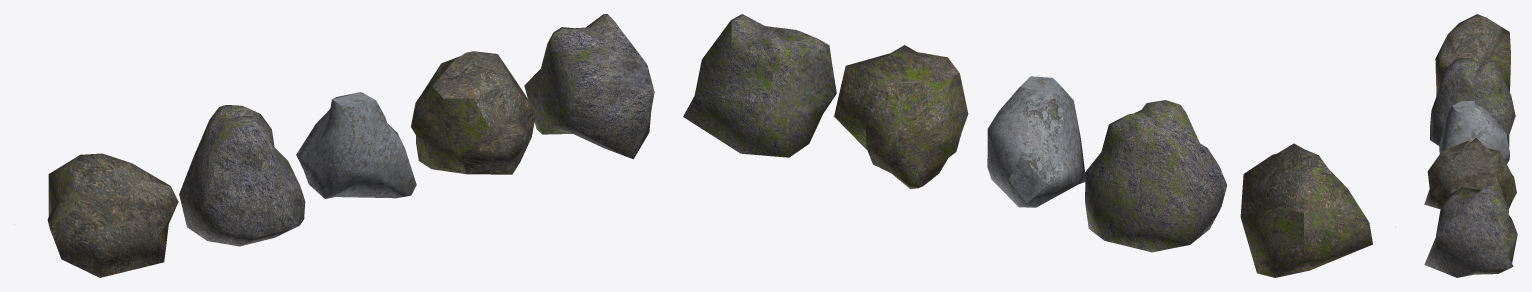
Rendered from Rocks.fbx.
3 views of the same model, side by side, from view 1: azimuth 30°, elevation 25°; view 2: azimuth 150°, elevation 25°; view 3: azimuth 270°, elevation 25° (orthographic). The views are drawn at different scales.
Parts seen in each view (by area): view 1: Rock1, Rock4, Rock5, Rock2, Rock3; view 2: Rock4, Rock1, Rock2, Rock5, Rock3; view 3: Rock1, Rock4, Rock2, Rock5, Rock3.
Boxes of the visible parts, x1=… form: Rock1: x1=524, y1=14, x2=654, y2=159; Rock4: x1=179, y1=105, x2=305, y2=246; Rock5: x1=47, y1=153, x2=178, y2=277; Rock2: x1=411, y1=51, x2=536, y2=174; Rock3: x1=296, y1=92, x2=416, y2=198; Rock4: x1=1085, y1=100, x2=1227, y2=252; Rock1: x1=683, y1=14, x2=836, y2=157; Rock2: x1=834, y1=45, x2=968, y2=188; Rock5: x1=1240, y1=143, x2=1372, y2=277; Rock3: x1=987, y1=76, x2=1085, y2=207; Rock1: x1=1424, y1=186, x2=1517, y2=277; Rock4: x1=1430, y1=58, x2=1515, y2=146; Rock2: x1=1424, y1=138, x2=1516, y2=209; Rock5: x1=1435, y1=14, x2=1510, y2=95; Rock3: x1=1439, y1=101, x2=1509, y2=163.
Size of the model in its own units: 2133 by 355 by 381.
